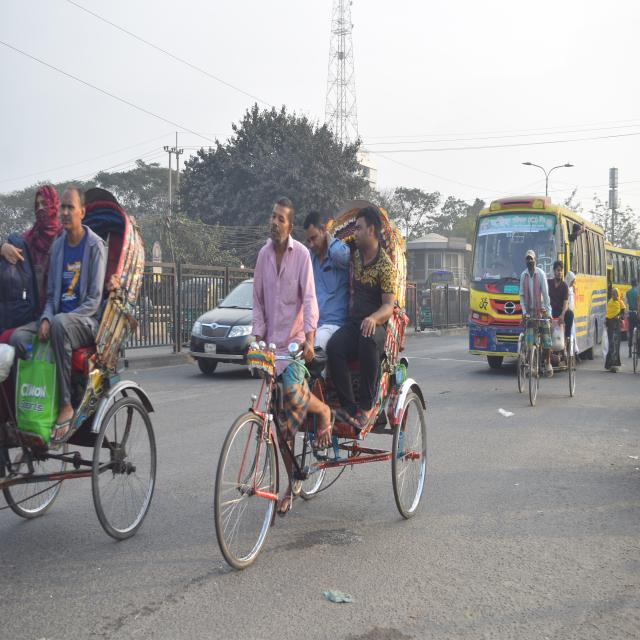bus: (473, 196, 605, 367), (608, 244, 640, 331)
car: (186, 273, 268, 371)
